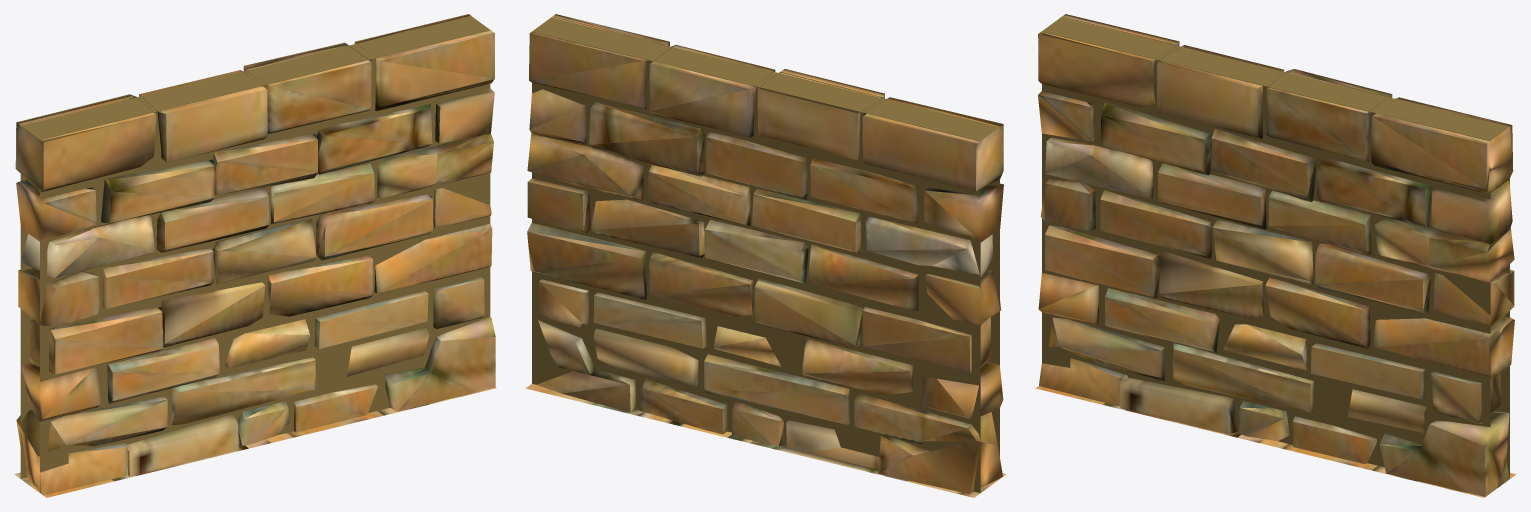
File: wall-stone-half.lod1.glb
3 views of the same model, side by side, from view 1: azimuth 30°, elevation 25°; view 2: azimuth 150°, elevation 25°; view 3: azimuth 330°, elevation 25° (orthographic).
Bounding box in the file's own units: 2 × 1.5 × 0.25.
1 material, 1 textured.
